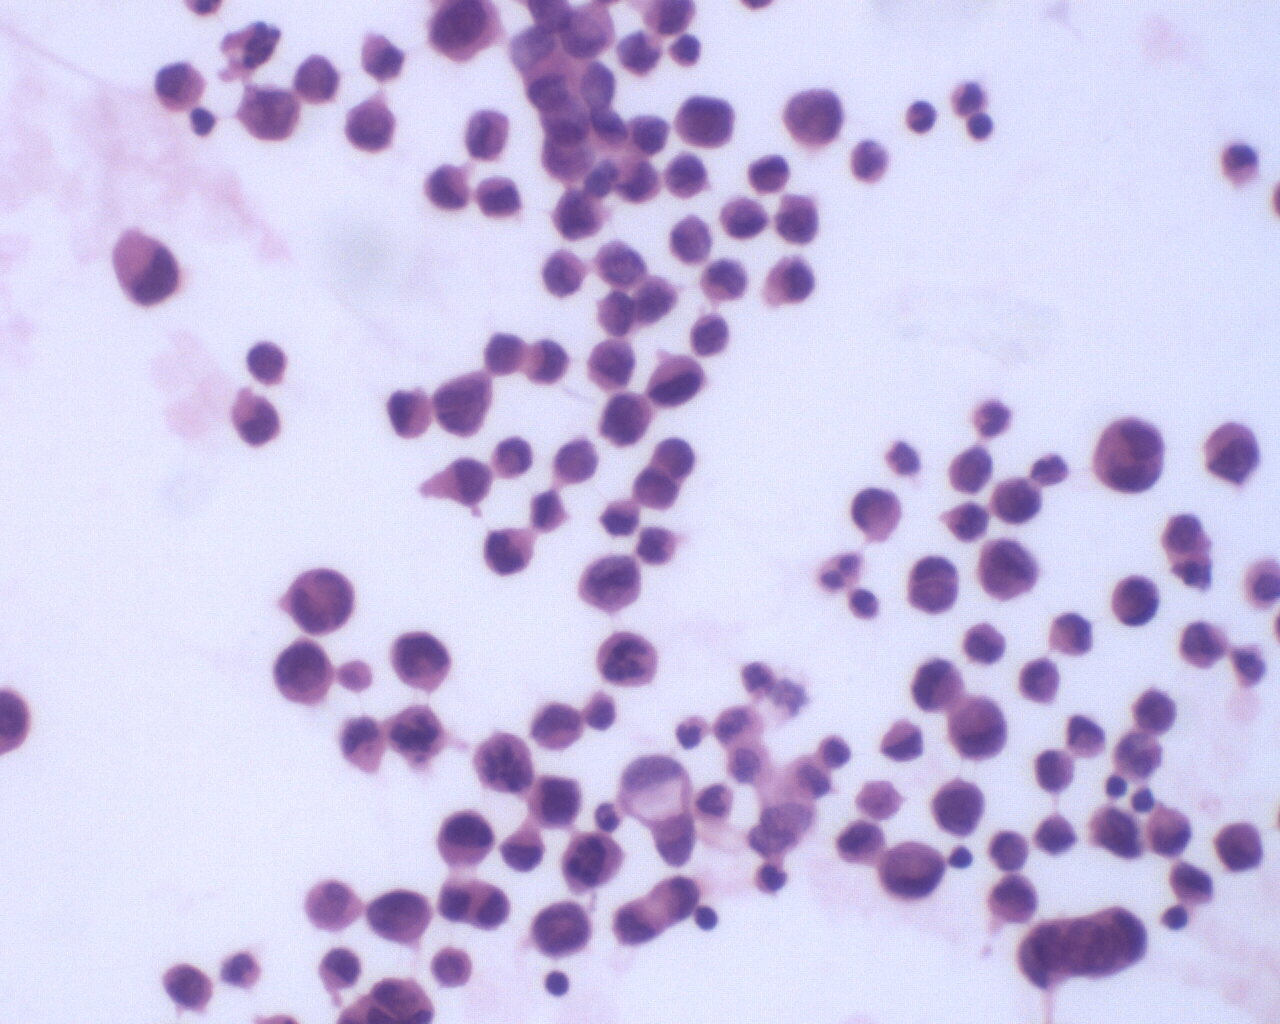ab: (1091, 412, 1168, 501), (417, 1, 507, 61), (470, 725, 541, 797), (973, 533, 1043, 601), (877, 838, 949, 904), (430, 370, 501, 437), (232, 77, 302, 144), (558, 830, 629, 895), (580, 550, 645, 621), (271, 636, 334, 708), (364, 886, 438, 946), (784, 83, 846, 153), (597, 627, 662, 690), (391, 627, 453, 691), (1203, 421, 1263, 487), (672, 89, 737, 149), (926, 777, 987, 839), (906, 551, 962, 616), (1106, 571, 1162, 632), (583, 336, 645, 393), (527, 773, 585, 832), (343, 97, 400, 157), (460, 104, 515, 165), (595, 389, 654, 444), (152, 61, 211, 115), (1213, 816, 1266, 874), (162, 960, 219, 1013), (984, 872, 1039, 927), (772, 189, 821, 248), (717, 192, 770, 242), (539, 245, 588, 298), (662, 152, 709, 203)
lymph: (543, 965, 572, 997), (694, 904, 720, 934)
neutro: (903, 95, 940, 136)
